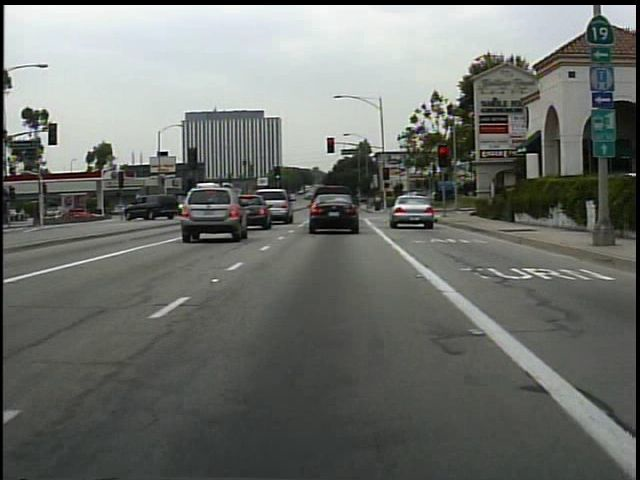person: (372, 192, 385, 213)
